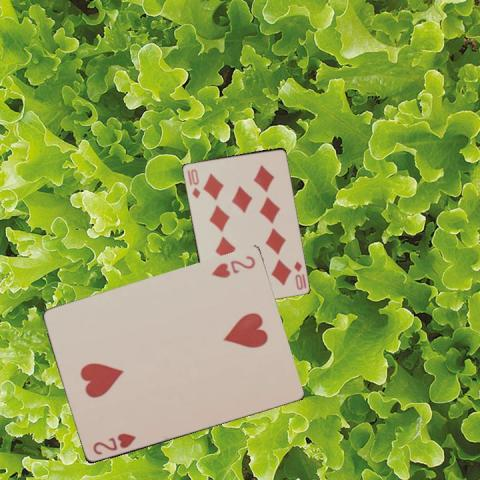10d: (291, 258, 307, 291), (188, 166, 202, 199)
2h: (208, 253, 257, 280), (89, 430, 137, 457)
